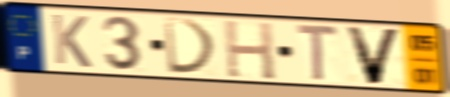3: (101, 14, 146, 73)
D: (161, 16, 221, 76)
H: (221, 18, 278, 82)
K: (49, 12, 94, 70)
T: (294, 21, 341, 84)
V: (342, 24, 405, 87)
